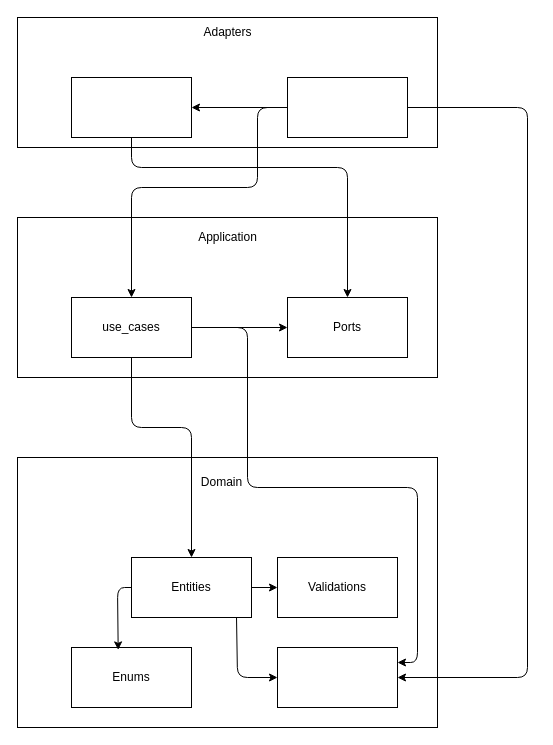
Some shapes in this 553 by 745 pixel diagram are drawn without their labels. The shapes that lost their labels are listed below. From the top down, each one's centre as x and y in pixels, then its label:
At pixel 131 107: "Implement".
At pixel 347 107: "API".
At pixel 337 677: "Exceptions".
